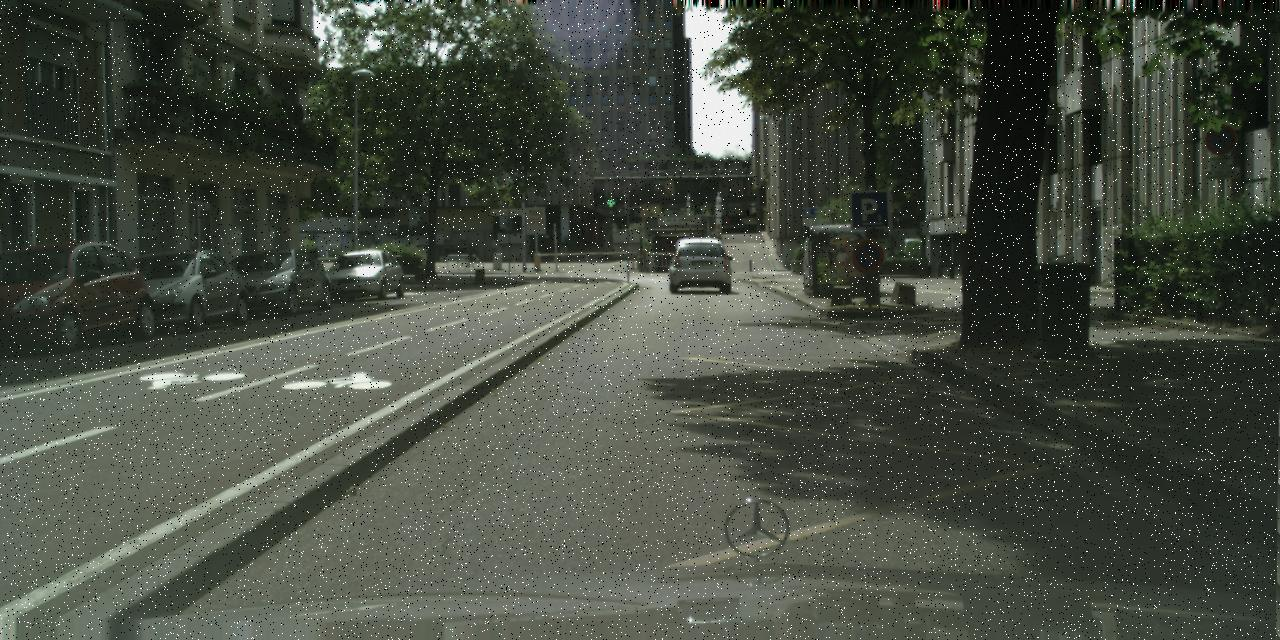ped: (527, 246, 533, 261)
